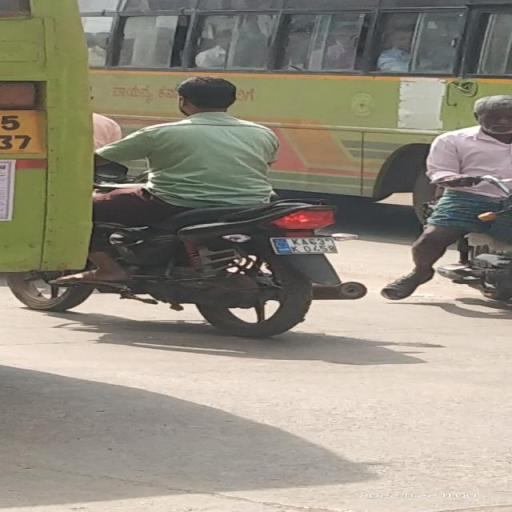bike: (92, 77, 369, 340)
numberplate: (270, 232, 340, 258)
withouthelmet: (180, 76, 234, 115)
